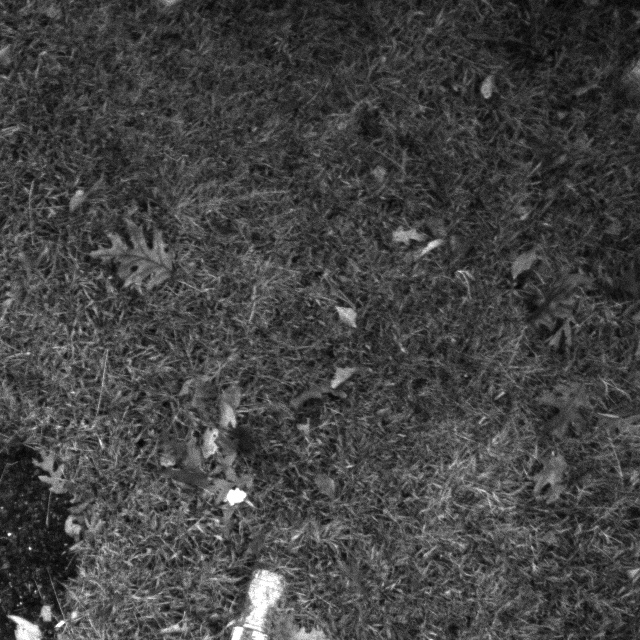bottle: (203, 555, 302, 640)
